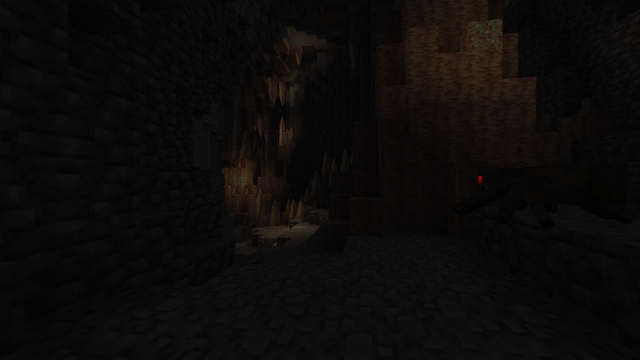araignees: (463, 157, 627, 229)
